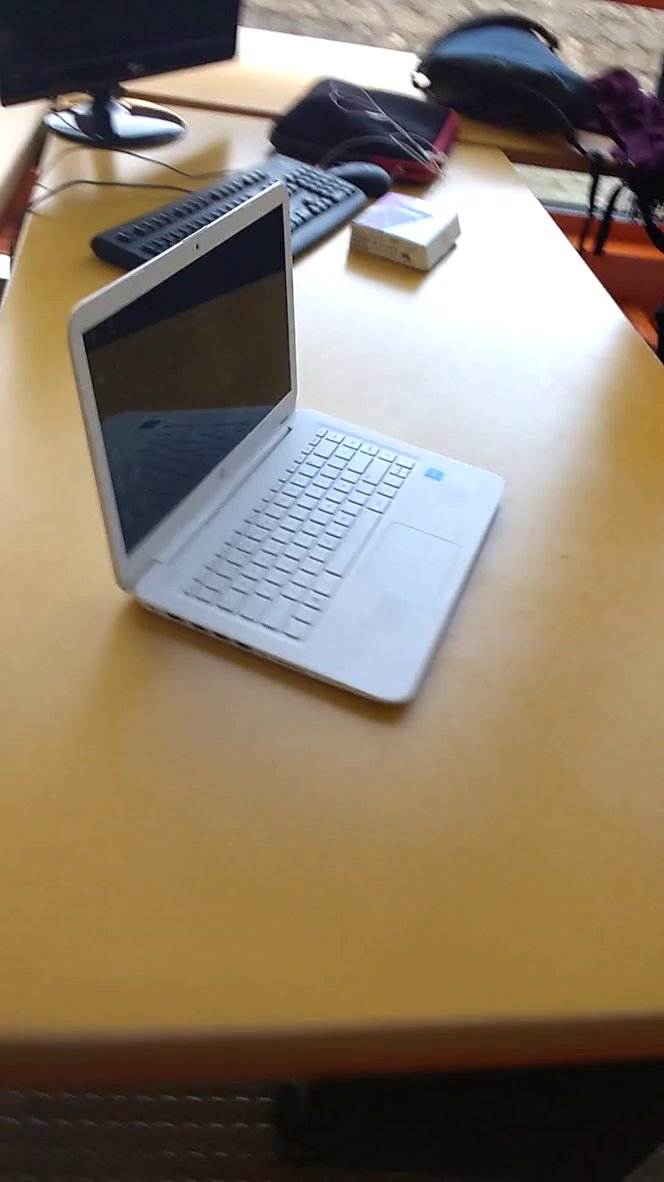laptop: (51, 166, 526, 735)
